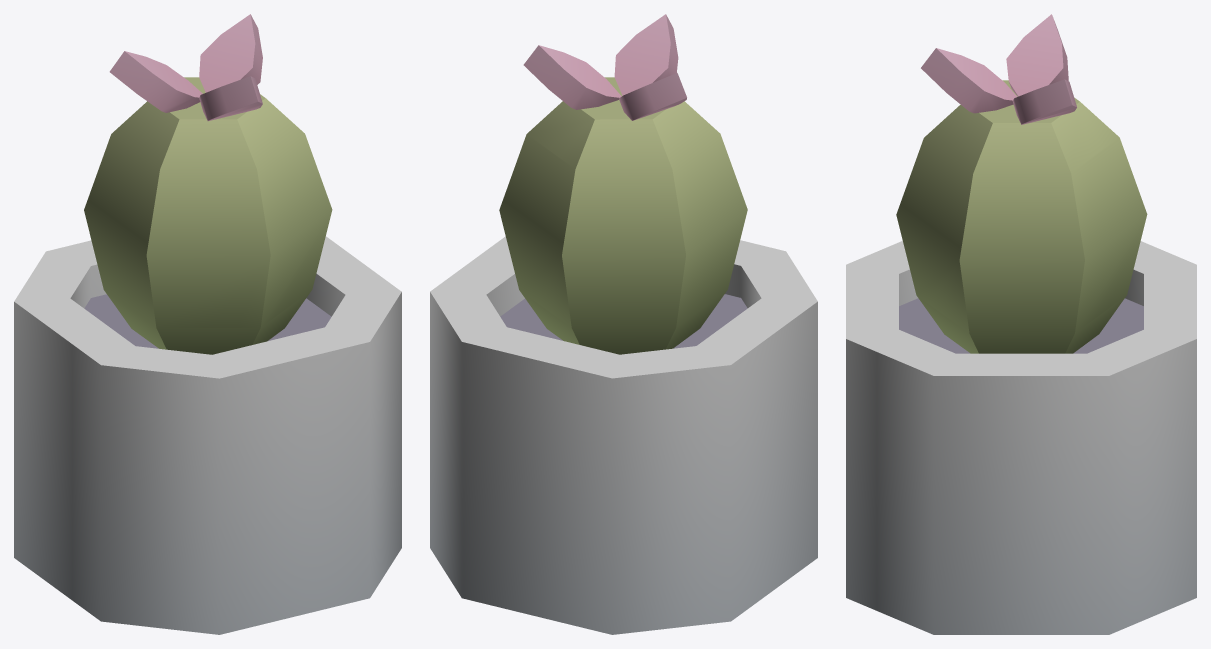
The model's file is plant-small-cactus-tall.glb.
3 views of the same model, side by side, from view 1: azimuth 30°, elevation 25°; view 2: azimuth 150°, elevation 25°; view 3: azimuth 270°, elevation 25° (orthographic).
Parts seen in each view (by area): view 1: plant-small-cactus-tall; view 2: plant-small-cactus-tall; view 3: plant-small-cactus-tall.
Boxes of the visible parts, x1,y1,x2,y2 form: plant-small-cactus-tall: (14,14,401,634); plant-small-cactus-tall: (430,14,817,634); plant-small-cactus-tall: (846,14,1196,634).
Size of the model in its own units: 0.1965 by 0.3169 by 0.1965.
